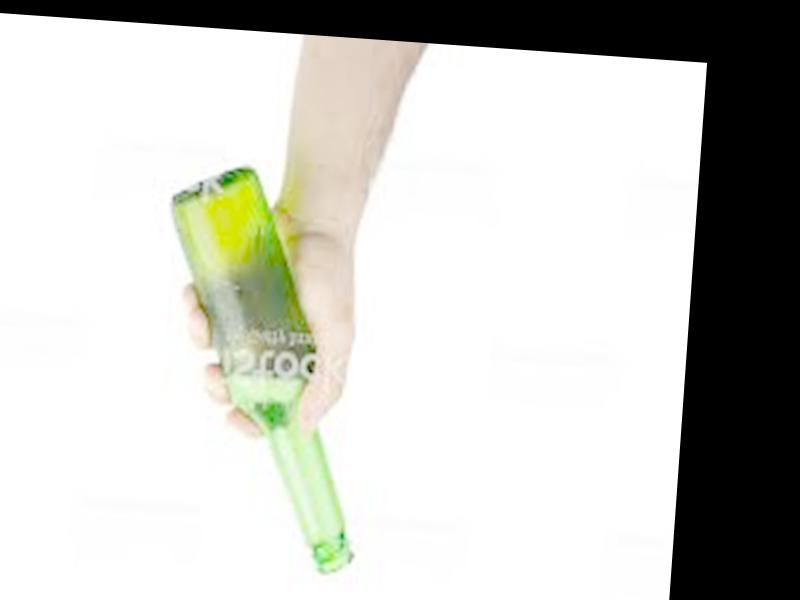Beer: (144, 166, 381, 579)
